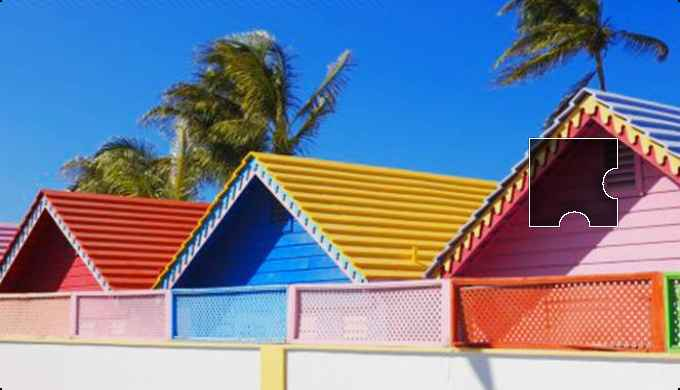gap: (529, 139, 616, 228)
